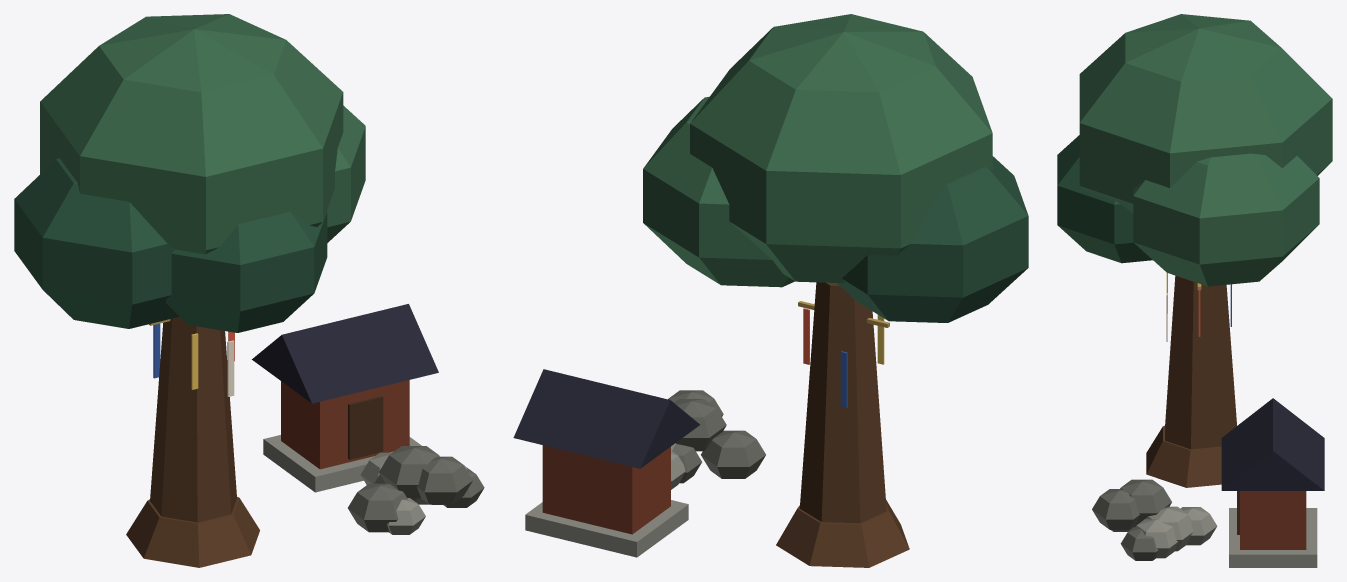
File: prop_seonangdang.obj
3 views of the same model, side by side, from view 1: azimuth 30°, elevation 25°; view 2: azimuth 150°, elevation 25°; view 3: azimuth 270°, elevation 25° (orthographic). The views are drawn at different scales.
Visible parts, largest first — view 1: prop_seonangdang_0_1, prop_seonangdang_0_2, prop_seonangdang_0_0, prop_seonangdang_0_6, prop_seonangdang_0_5, prop_seonangdang_0_3, prop_seonangdang_0_4, prop_seonangdang_0_7; view 2: prop_seonangdang_0_1, prop_seonangdang_0_0, prop_seonangdang_0_2, prop_seonangdang_0_6, prop_seonangdang_0_5, prop_seonangdang_0_3, prop_seonangdang_0_4; view 3: prop_seonangdang_0_1, prop_seonangdang_0_0, prop_seonangdang_0_6, prop_seonangdang_0_2, prop_seonangdang_0_4, prop_seonangdang_0_5, prop_seonangdang_0_3.
Part boxes in pixels (box(x1,y1,x2,y2)): prop_seonangdang_0_1: box(40, 14, 365, 254); prop_seonangdang_0_2: box(14, 158, 327, 332); prop_seonangdang_0_0: box(126, 316, 259, 567); prop_seonangdang_0_6: box(252, 304, 438, 403); prop_seonangdang_0_5: box(281, 380, 409, 469); prop_seonangdang_0_3: box(348, 446, 484, 532); prop_seonangdang_0_4: box(263, 435, 467, 534); prop_seonangdang_0_7: box(348, 396, 383, 459); prop_seonangdang_0_1: box(643, 14, 992, 287); prop_seonangdang_0_0: box(776, 282, 909, 567); prop_seonangdang_0_2: box(837, 156, 1028, 322); prop_seonangdang_0_6: box(513, 369, 699, 468); prop_seonangdang_0_5: box(542, 445, 670, 534); prop_seonangdang_0_3: box(668, 390, 765, 483); prop_seonangdang_0_4: box(525, 443, 688, 557); prop_seonangdang_0_1: box(1079, 14, 1332, 286); prop_seonangdang_0_0: box(1146, 275, 1236, 487); prop_seonangdang_0_6: box(1221, 398, 1324, 490); prop_seonangdang_0_2: box(1057, 135, 1152, 263); prop_seonangdang_0_4: box(1111, 506, 1317, 567); prop_seonangdang_0_5: box(1240, 491, 1306, 549); prop_seonangdang_0_3: box(1092, 479, 1171, 560).
Bounding box in the file's own units: 5.7 × 6.52 × 3.74.
